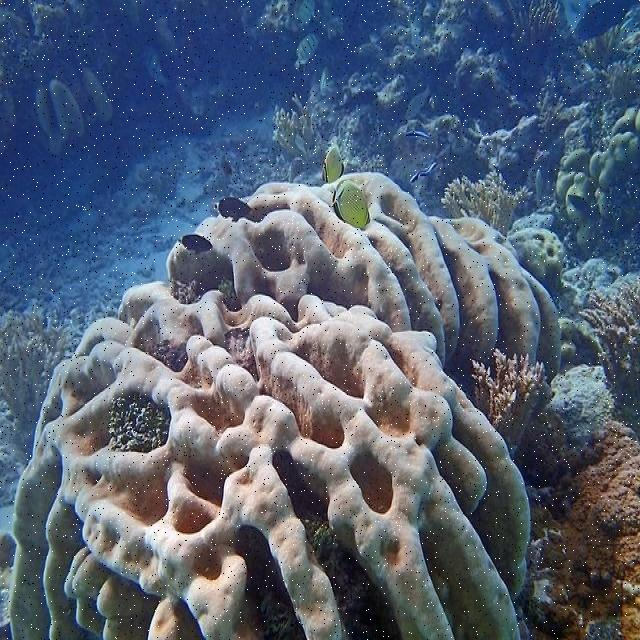fish: (573, 0, 633, 40), (332, 179, 370, 228), (143, 46, 175, 92), (294, 32, 320, 73), (567, 194, 598, 228), (407, 85, 438, 117), (319, 145, 344, 182), (334, 89, 378, 110), (219, 198, 253, 222), (178, 235, 213, 253), (410, 162, 439, 183), (531, 168, 543, 208), (297, 0, 315, 24), (411, 16, 423, 49), (320, 69, 334, 96), (404, 129, 430, 140)
reefs: (0, 170, 564, 638), (508, 1, 639, 248), (0, 2, 113, 155), (579, 285, 639, 393), (273, 91, 329, 168)
